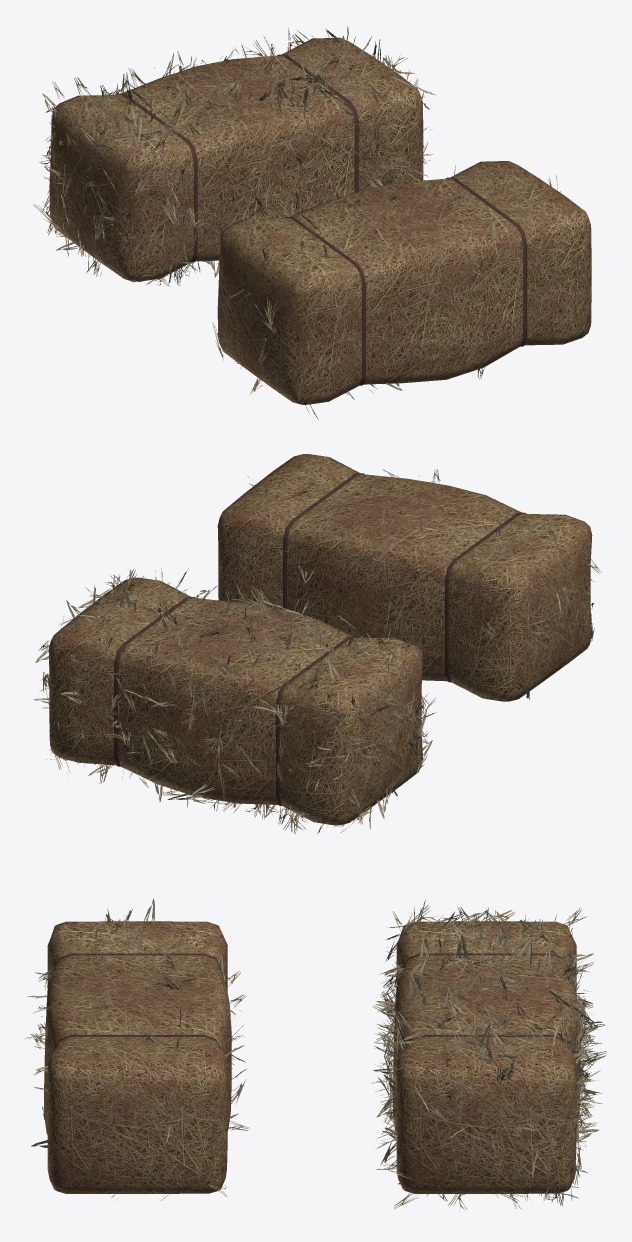
Rendered from hay.glb.
3 views of the same model, one above another, from view 1: azimuth 30°, elevation 25°; view 2: azimuth 150°, elevation 25°; view 3: azimuth 270°, elevation 25° (orthographic). The views are drawn at different scales.
Visible parts, largest first — view 1: Object_2; view 2: Object_2; view 3: Object_2.
Boxes of the visible parts, <box> form: Object_2: <box>33,26,591,419</box>; Object_2: <box>33,454,601,833</box>; Object_2: <box>25,898,606,1212</box>.
Size of the model in its own units: 1.12 by 0.5797 by 1.51.
1 material, 1 textured.
